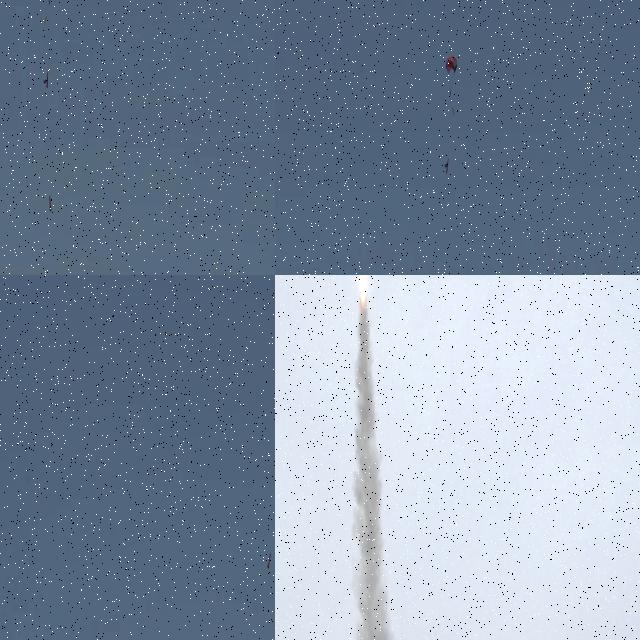Rocket: (267, 552, 271, 570), (50, 196, 51, 212)
